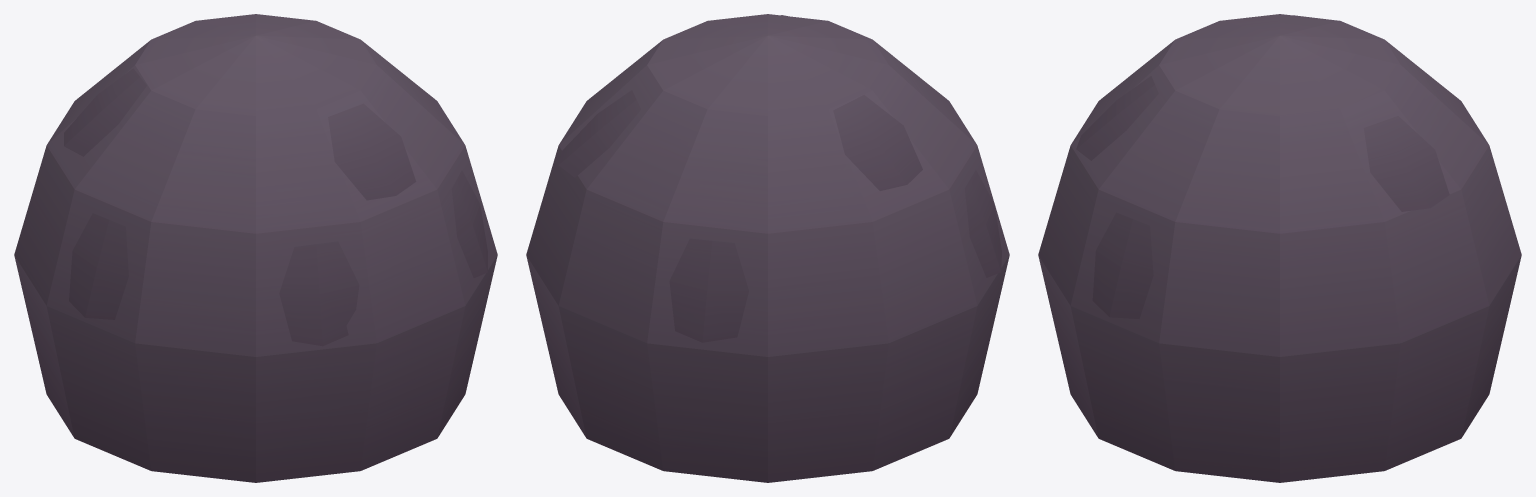
The model's file is CircularBush_Dark.glb.
The picture shows the model from 3 angles, left to right: view 1: azimuth 30°, elevation 25°; view 2: azimuth 150°, elevation 25°; view 3: azimuth 270°, elevation 25°; orthographic projection.
Visible parts, largest first — view 1: CircularBush_Dark; view 2: CircularBush_Dark; view 3: CircularBush_Dark.
Boxes of the visible parts, box(x1,y1,x2,y2) form: CircularBush_Dark: box(14, 14, 497, 482); CircularBush_Dark: box(526, 14, 1009, 482); CircularBush_Dark: box(1038, 14, 1521, 482).
Bounding box in the file's own units: 1.38 × 1.23 × 1.38.
Materials: 1 (1 with a texture image).
